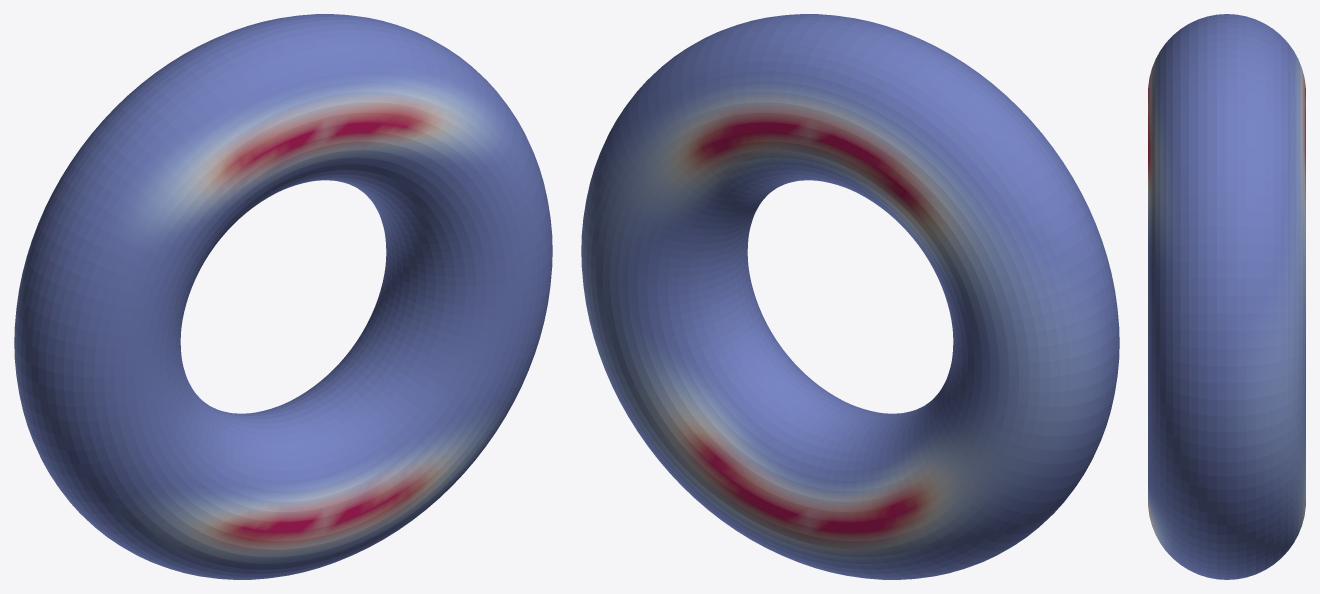
The picture shows the model from 3 angles, left to right: view 1: azimuth 30°, elevation 25°; view 2: azimuth 150°, elevation 25°; view 3: azimuth 270°, elevation 25°; orthographic projection. The views are drawn at different scales.
Visible parts, largest first — view 1: world; view 2: world; view 3: world.
Boxes of the visible parts, x1=… form: world: x1=14, y1=14, x2=552, y2=579; world: x1=581, y1=14, x2=1119, y2=579; world: x1=1148, y1=14, x2=1305, y2=579.
Size of the model in its own units: 14.8 by 14.8 by 4.13.
